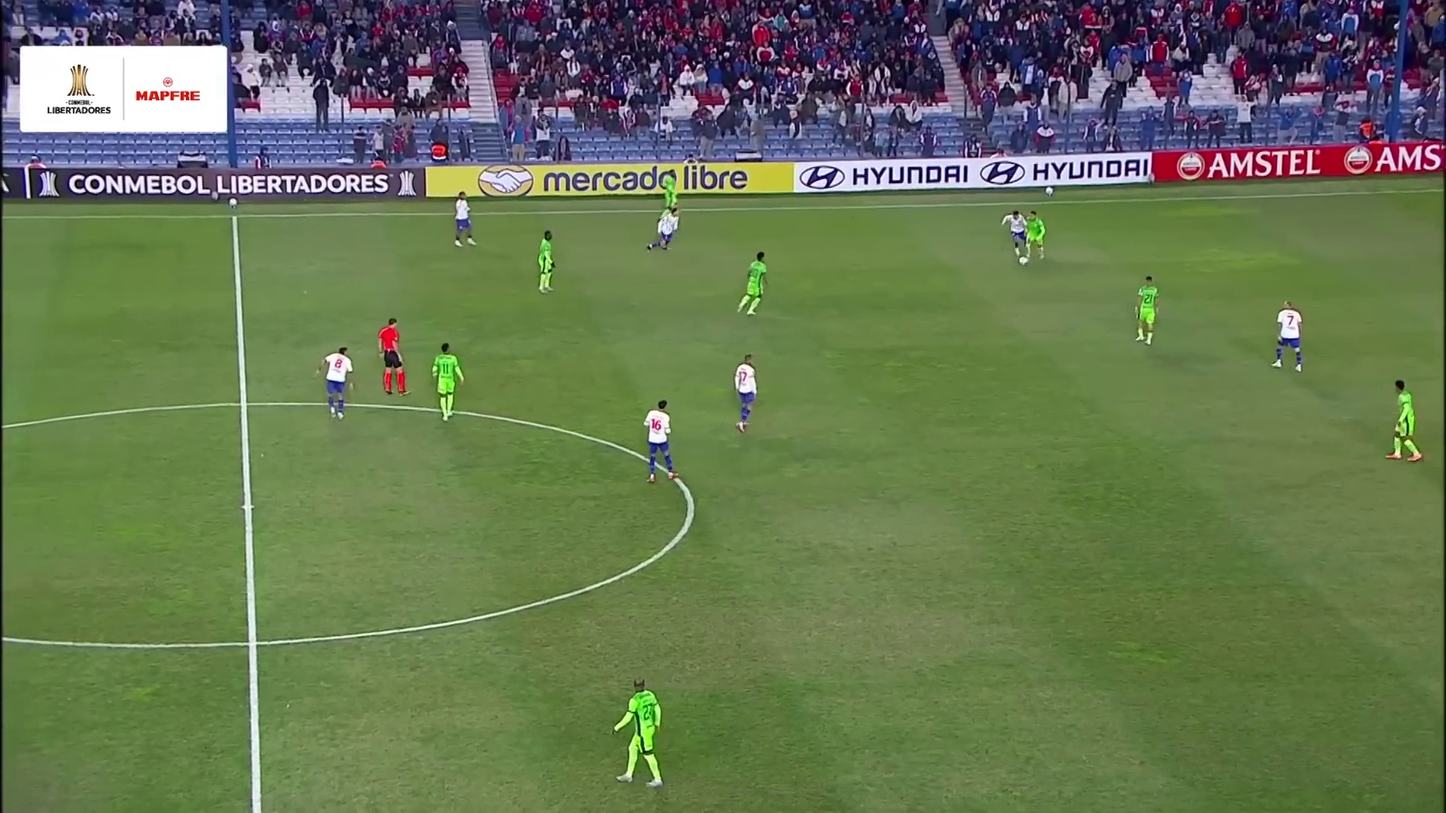ball: (1016, 253, 1029, 268)
player: (610, 678, 669, 789), (639, 398, 682, 487), (1383, 378, 1425, 463), (314, 345, 356, 421), (428, 342, 466, 423), (1269, 301, 1308, 374), (731, 353, 761, 432), (1131, 274, 1163, 348), (736, 250, 770, 317), (646, 207, 682, 254), (999, 209, 1030, 262), (534, 229, 558, 294), (451, 191, 477, 247), (1022, 210, 1048, 262), (659, 174, 682, 219)
referee: (376, 317, 411, 399)
